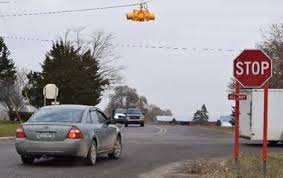stop: (229, 48, 273, 89)
